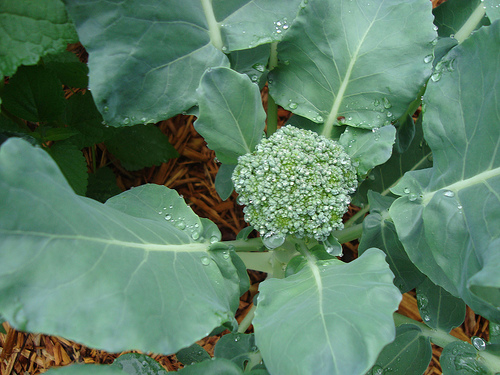broccoli: (231, 124, 360, 242)
